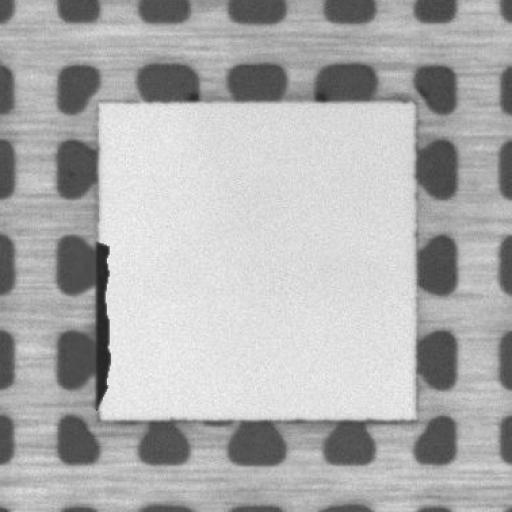DIE_BROKEN: (91, 232, 112, 404)
